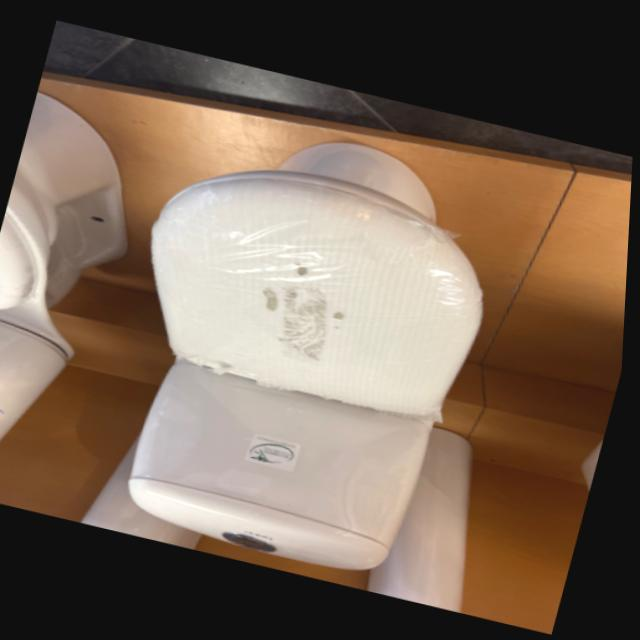toilet: (79, 100, 524, 589)
